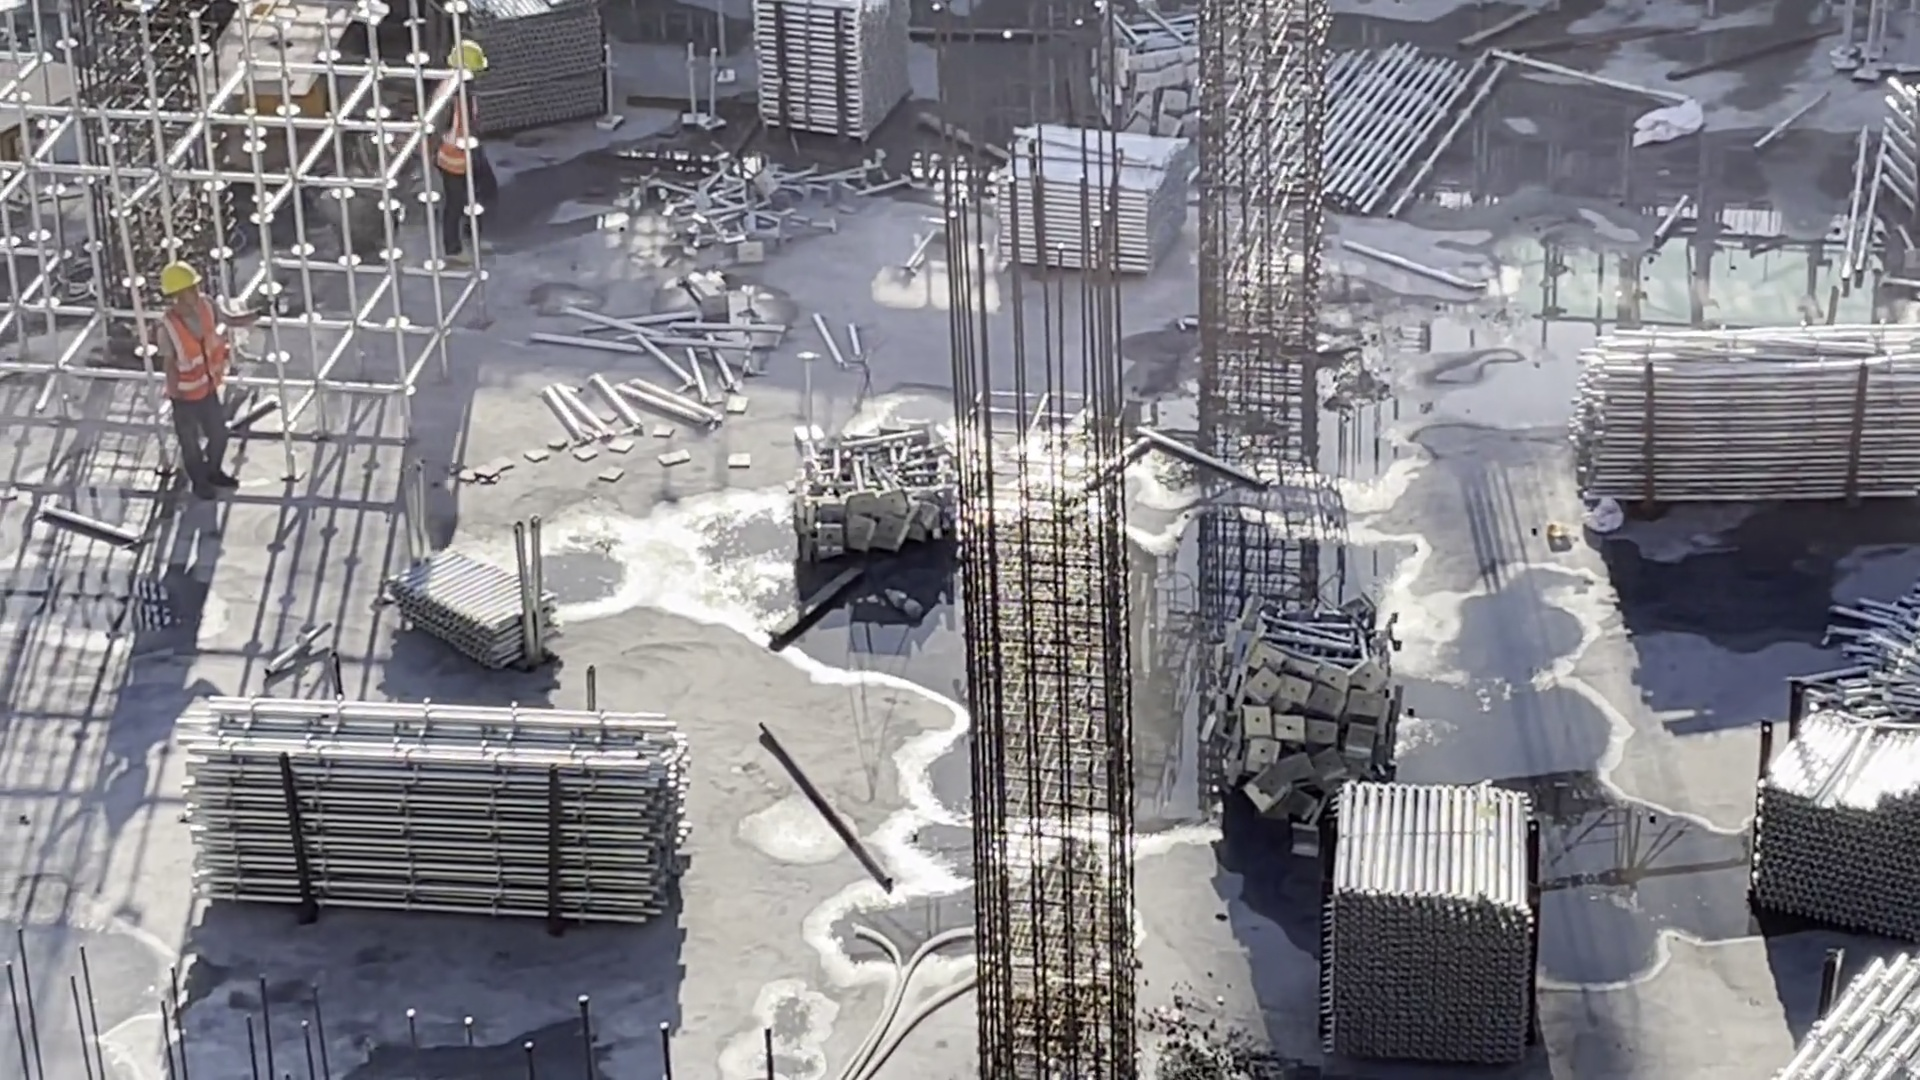cutter: (195, 4, 377, 134)
helmet: (158, 258, 203, 298), (443, 35, 488, 72)
person: (143, 254, 259, 478), (417, 38, 506, 252)
scaffold: (176, 689, 692, 933), (1587, 314, 1916, 511), (1335, 787, 1543, 1062), (1214, 609, 1401, 838), (1752, 711, 1920, 921), (992, 124, 1188, 278), (796, 411, 978, 552), (1323, 50, 1473, 208), (445, 1, 621, 135), (391, 546, 571, 670), (766, 1, 923, 141), (1750, 941, 1902, 1080), (1832, 584, 1920, 715)
vest: (152, 305, 238, 397), (431, 75, 489, 187)
